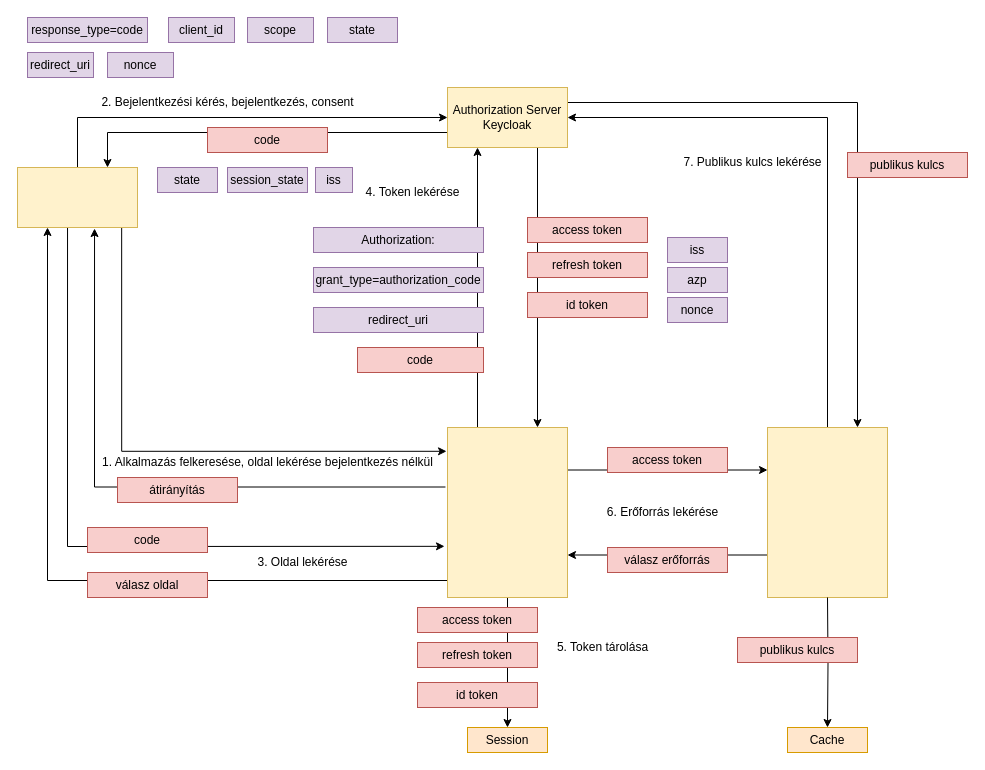
Image size: 985x770. Some labels were removed from this diagram. The centre of each missing label's shape, as x and y in pixels:
"Client Frontend alkalmazás" belongs at (x=507, y=512).
"Felhasználó, böngészővel" belongs at (x=77, y=197).
"Resource Server Backend alkalmazás" belongs at (x=827, y=512).
